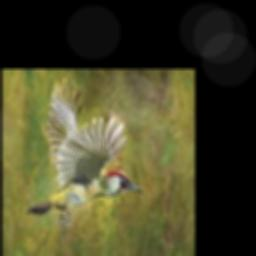Woodpecker: (24, 77, 142, 226)
